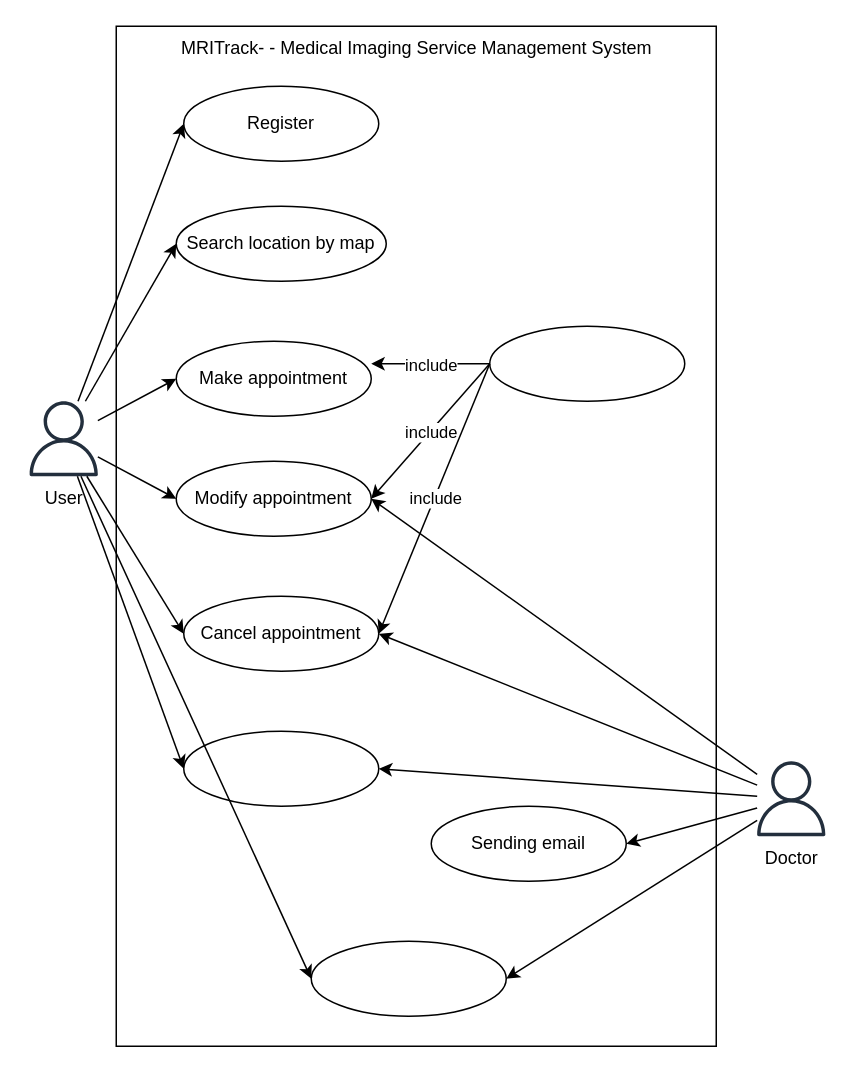
This 861x1073 diagram has some shape labels left out. Each missing label, with the centre of its shape:
"Login" belongs at (280,768).
"Reservation" belongs at (586,363).
"View data by charts" belongs at (408,978).
